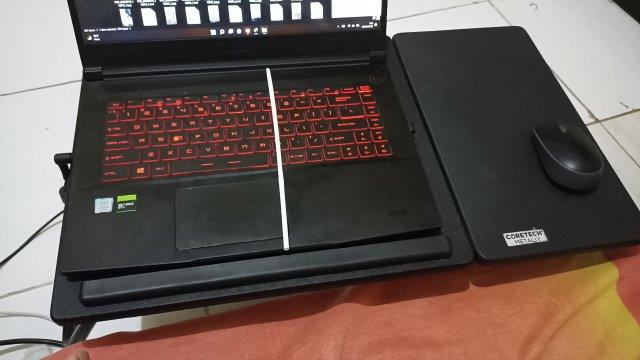sedotan: (265, 68, 290, 249)
